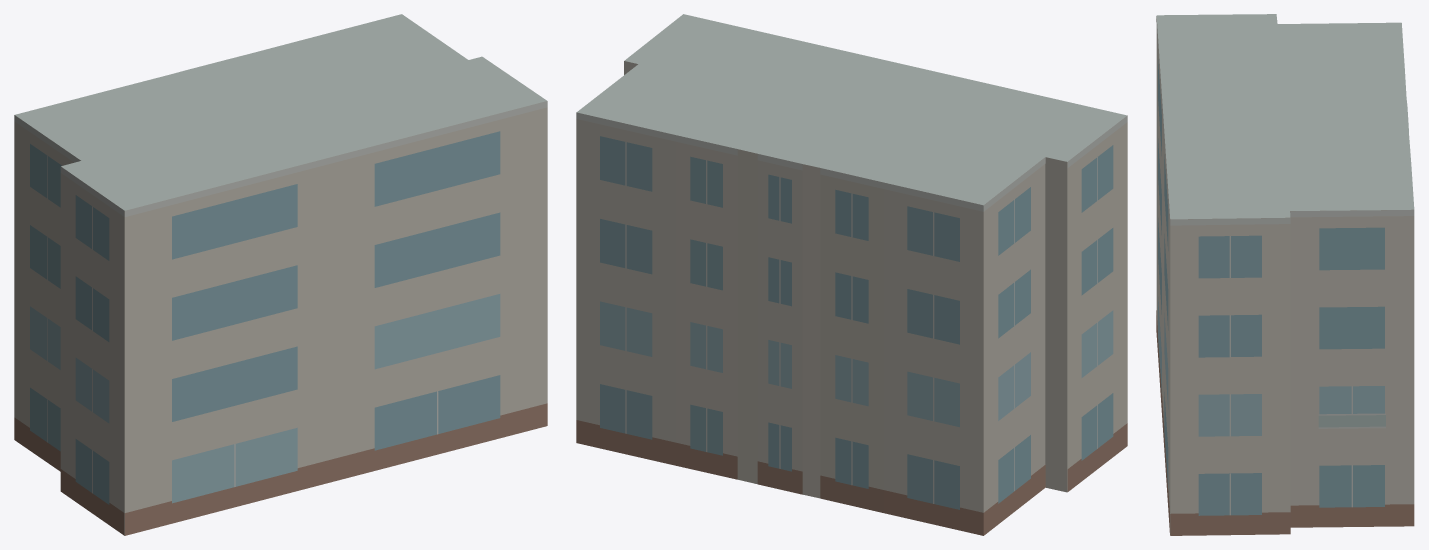
Rendered from survey-upis-32938259.glb.
3 renders of one model, left to right at view 1: azimuth 30°, elevation 25°; view 2: azimuth 150°, elevation 25°; view 3: azimuth 270°, elevation 25°, orthographic. The views are drawn at different scales.
Parts seen in each view (by area): view 1: survey-upis-32938259.tmp; view 2: survey-upis-32938259.tmp; view 3: survey-upis-32938259.tmp.
Boxes of the visible parts, box(x1,y1,x2,y2) form: survey-upis-32938259.tmp: box(14, 14, 547, 535); survey-upis-32938259.tmp: box(576, 14, 1127, 535); survey-upis-32938259.tmp: box(1156, 14, 1414, 535).
Size of the model in its own units: 17.12 by 12.3 by 9.09.
